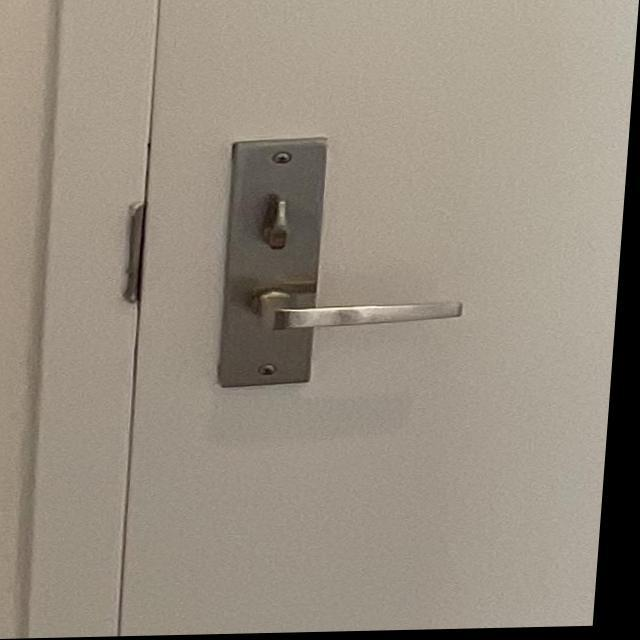door_handle: (233, 277, 484, 352)
